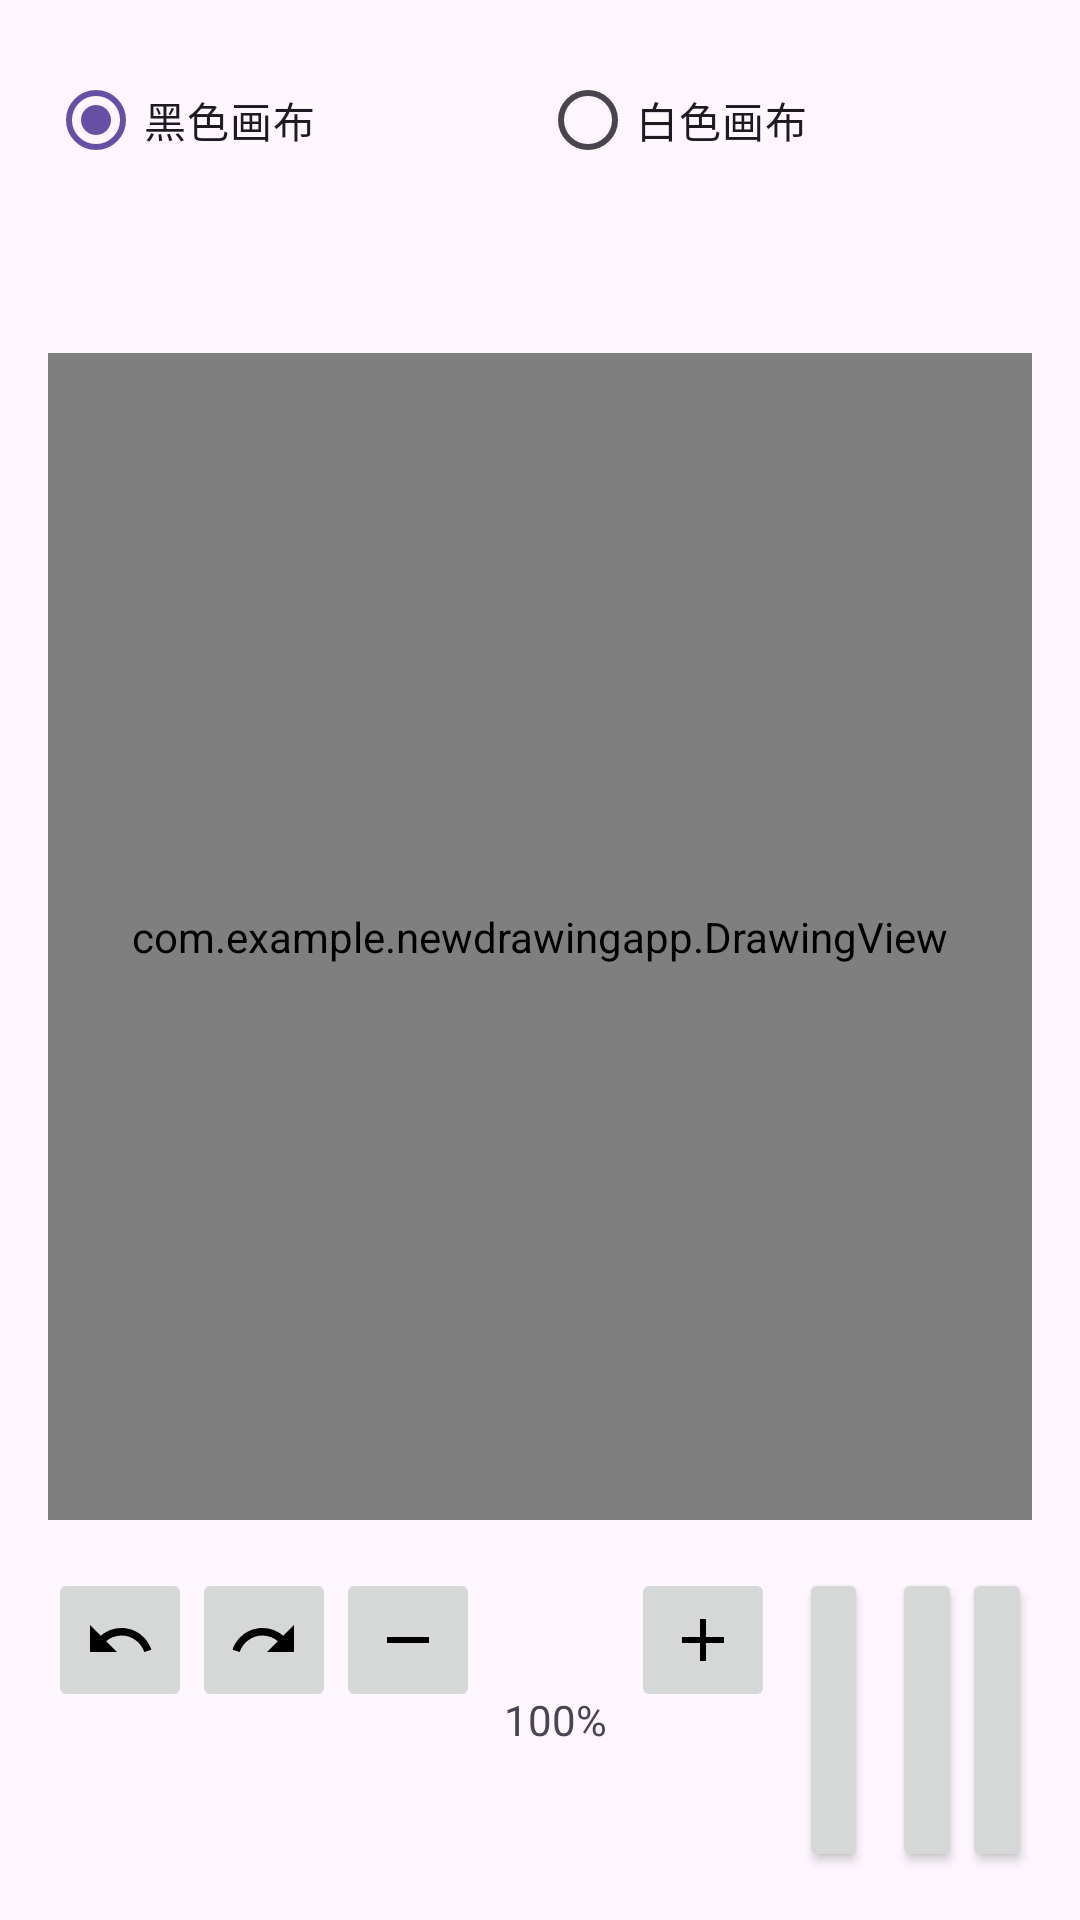

Icons on this 1080 x 1920 Android screen, each with the point to tap as [x,y]:
减小画笔: [408,1640]
增大画笔: [703,1640]
撤销: [120,1640]
重做: [264,1640]
